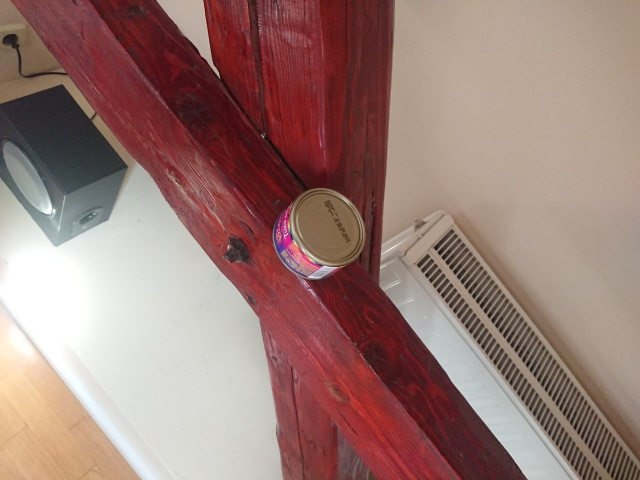Giana Tuna Salad Mexico 185g: (271, 186, 368, 282)
